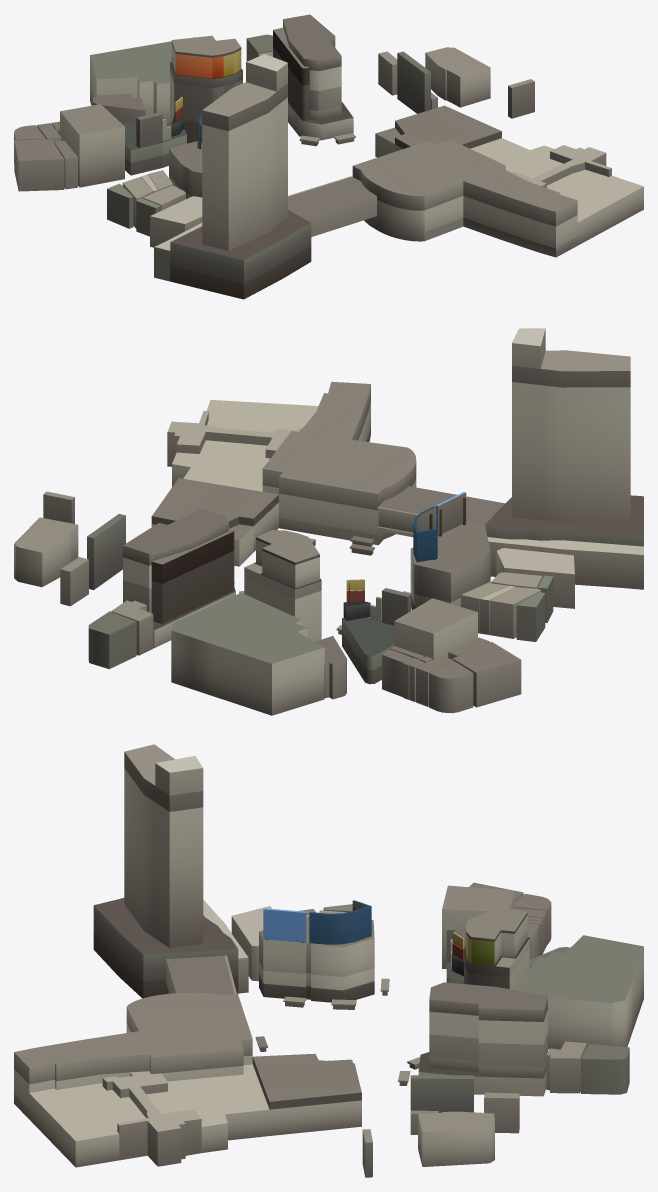
Rendered from ShibuyaBuildings.obj.
3 renders of one model, top to bottom at view 1: azimuth 30°, elevation 25°; view 2: azimuth 150°, elevation 25°; view 3: azimuth 270°, elevation 25°, orthographic. The views are drawn at different scales.
Parts seen in each view (by area): view 1: Shibuya_Buildings; view 2: Shibuya_Buildings; view 3: Shibuya_Buildings.
Part boxes in pixels (x1,y1,x2,y2): Shibuya_Buildings: (14, 14, 643, 299); Shibuya_Buildings: (14, 328, 643, 715); Shibuya_Buildings: (14, 744, 643, 1177).
Bounding box in the file's own units: 320 × 126 × 327.
1 material, 1 textured.
